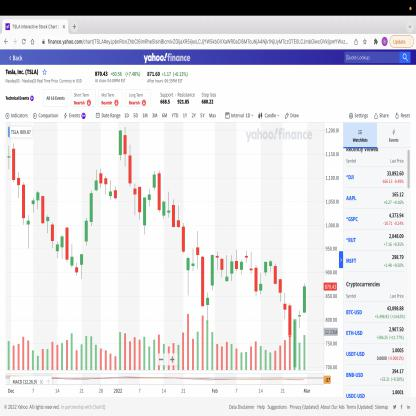Bearish: Engulfing: (152, 167, 162, 216)
Bullish: Inverted Hammer: (220, 252, 234, 284)
